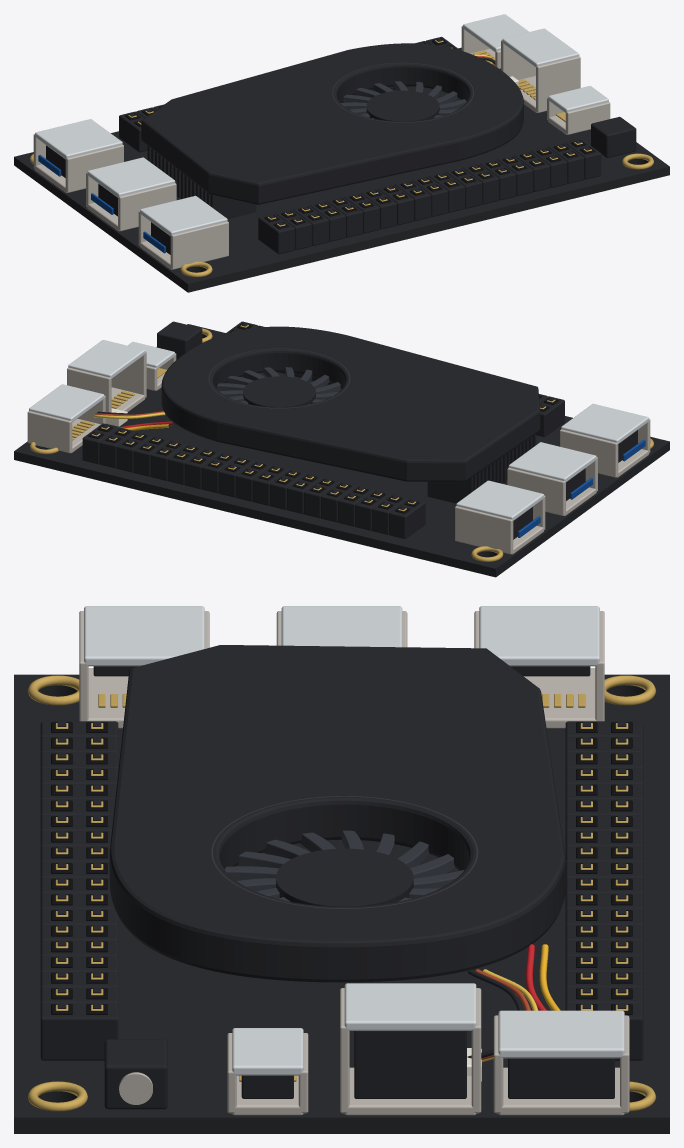
The model's file is boards-18.glb.
The picture shows the model from 3 angles, top to bottom: view 1: azimuth 30°, elevation 25°; view 2: azimuth 150°, elevation 25°; view 3: azimuth 270°, elevation 25°; orthographic projection. The views are drawn at different scales.
Visible parts, largest first — view 1: cooling, board, headers, usb, network, fan, type-c, hdmi, audio; view 2: cooling, board, headers, usb, network, hdmi, fan, audio, type-c, cable; view 3: cooling, board, headers, usb, network, hdmi, fan, type-c, audio, cable.
Boxes of the visible parts, x1,y1,x2,y2 form: cooling: [141, 43, 523, 218]; board: [14, 47, 669, 292]; headers: [119, 36, 601, 254]; usb: [33, 119, 228, 269]; network: [501, 28, 580, 112]; fan: [340, 81, 466, 121]; type-c: [547, 86, 610, 134]; hdmi: [461, 14, 528, 68]; audio: [591, 116, 636, 157]; cooling: [161, 326, 540, 503]; board: [14, 324, 669, 577]; headers: [82, 321, 564, 538]; usb: [455, 403, 650, 554]; network: [67, 340, 146, 412]; hdmi: [27, 384, 105, 453]; fan: [119, 367, 341, 430]; audio: [157, 321, 202, 359]; type-c: [128, 341, 176, 390]; cable: [93, 408, 165, 426]; cooling: [109, 645, 565, 982]; board: [14, 674, 669, 1133]; headers: [40, 721, 643, 1060]; usb: [79, 606, 604, 728]; network: [340, 983, 481, 1115]; hdmi: [493, 1010, 629, 1115]; fan: [224, 830, 560, 1010]; type-c: [227, 1028, 308, 1115]; audio: [104, 1039, 167, 1109]; cable: [467, 969, 538, 1081].
Size of the model in its own units: 3.82 by 0.4698 by 2.39.
